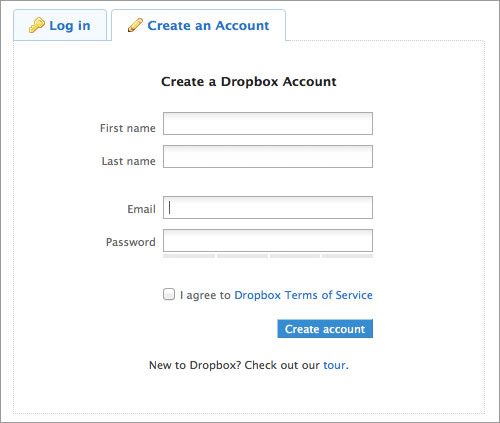_form_: (1, 1, 416, 416)
button: (277, 319, 373, 339)
checkbox: (161, 287, 178, 300)
checkbox_with_label: (157, 285, 373, 303)
field: (160, 144, 374, 169), (161, 195, 375, 219), (161, 228, 374, 252), (161, 112, 374, 135)
field_with_label: (102, 142, 376, 170), (105, 227, 376, 254), (99, 111, 376, 137), (127, 193, 376, 221)
